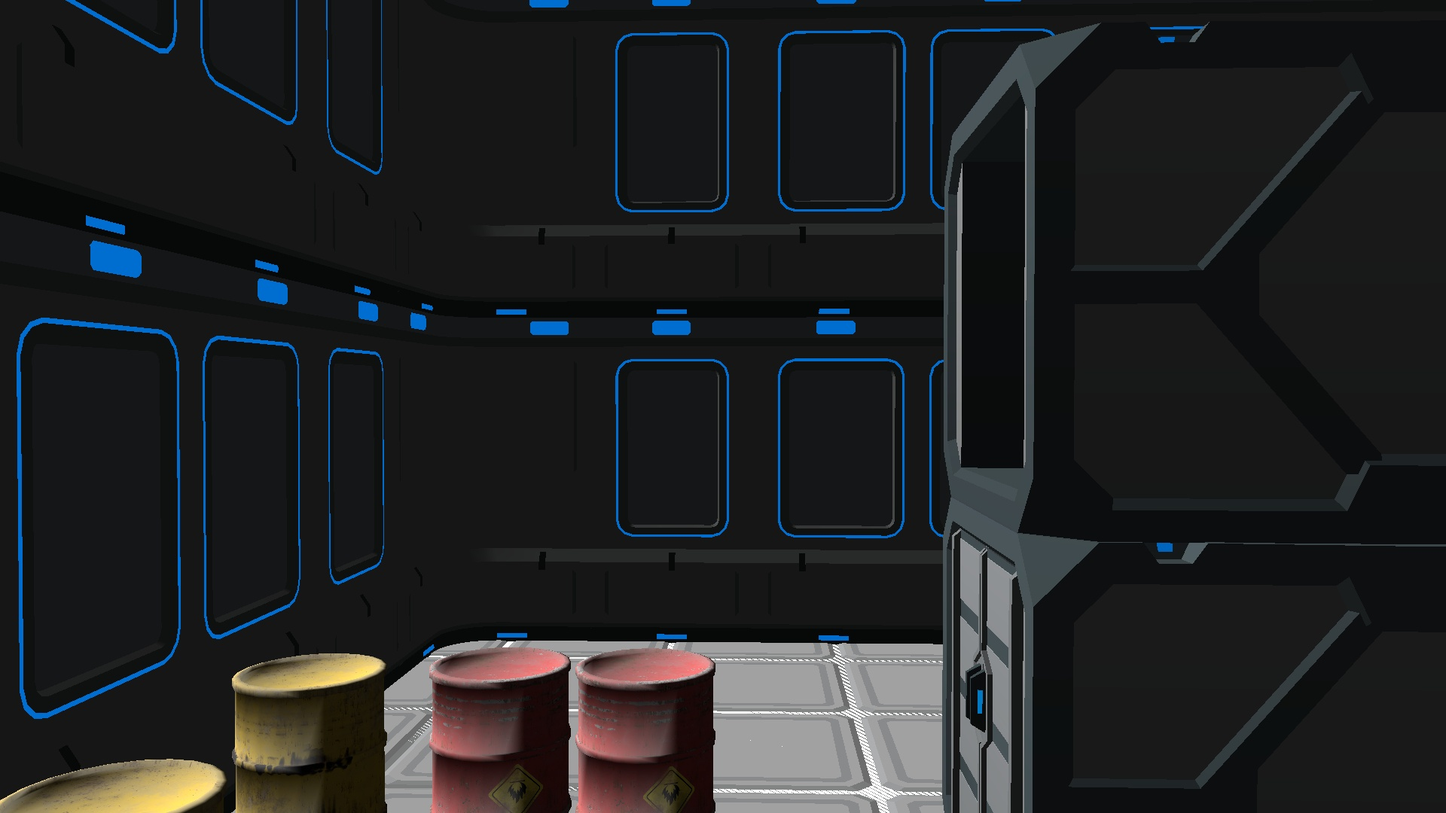toxic barrel: (231, 653, 387, 813), (428, 647, 572, 813), (575, 648, 716, 813), (0, 759, 225, 813)
